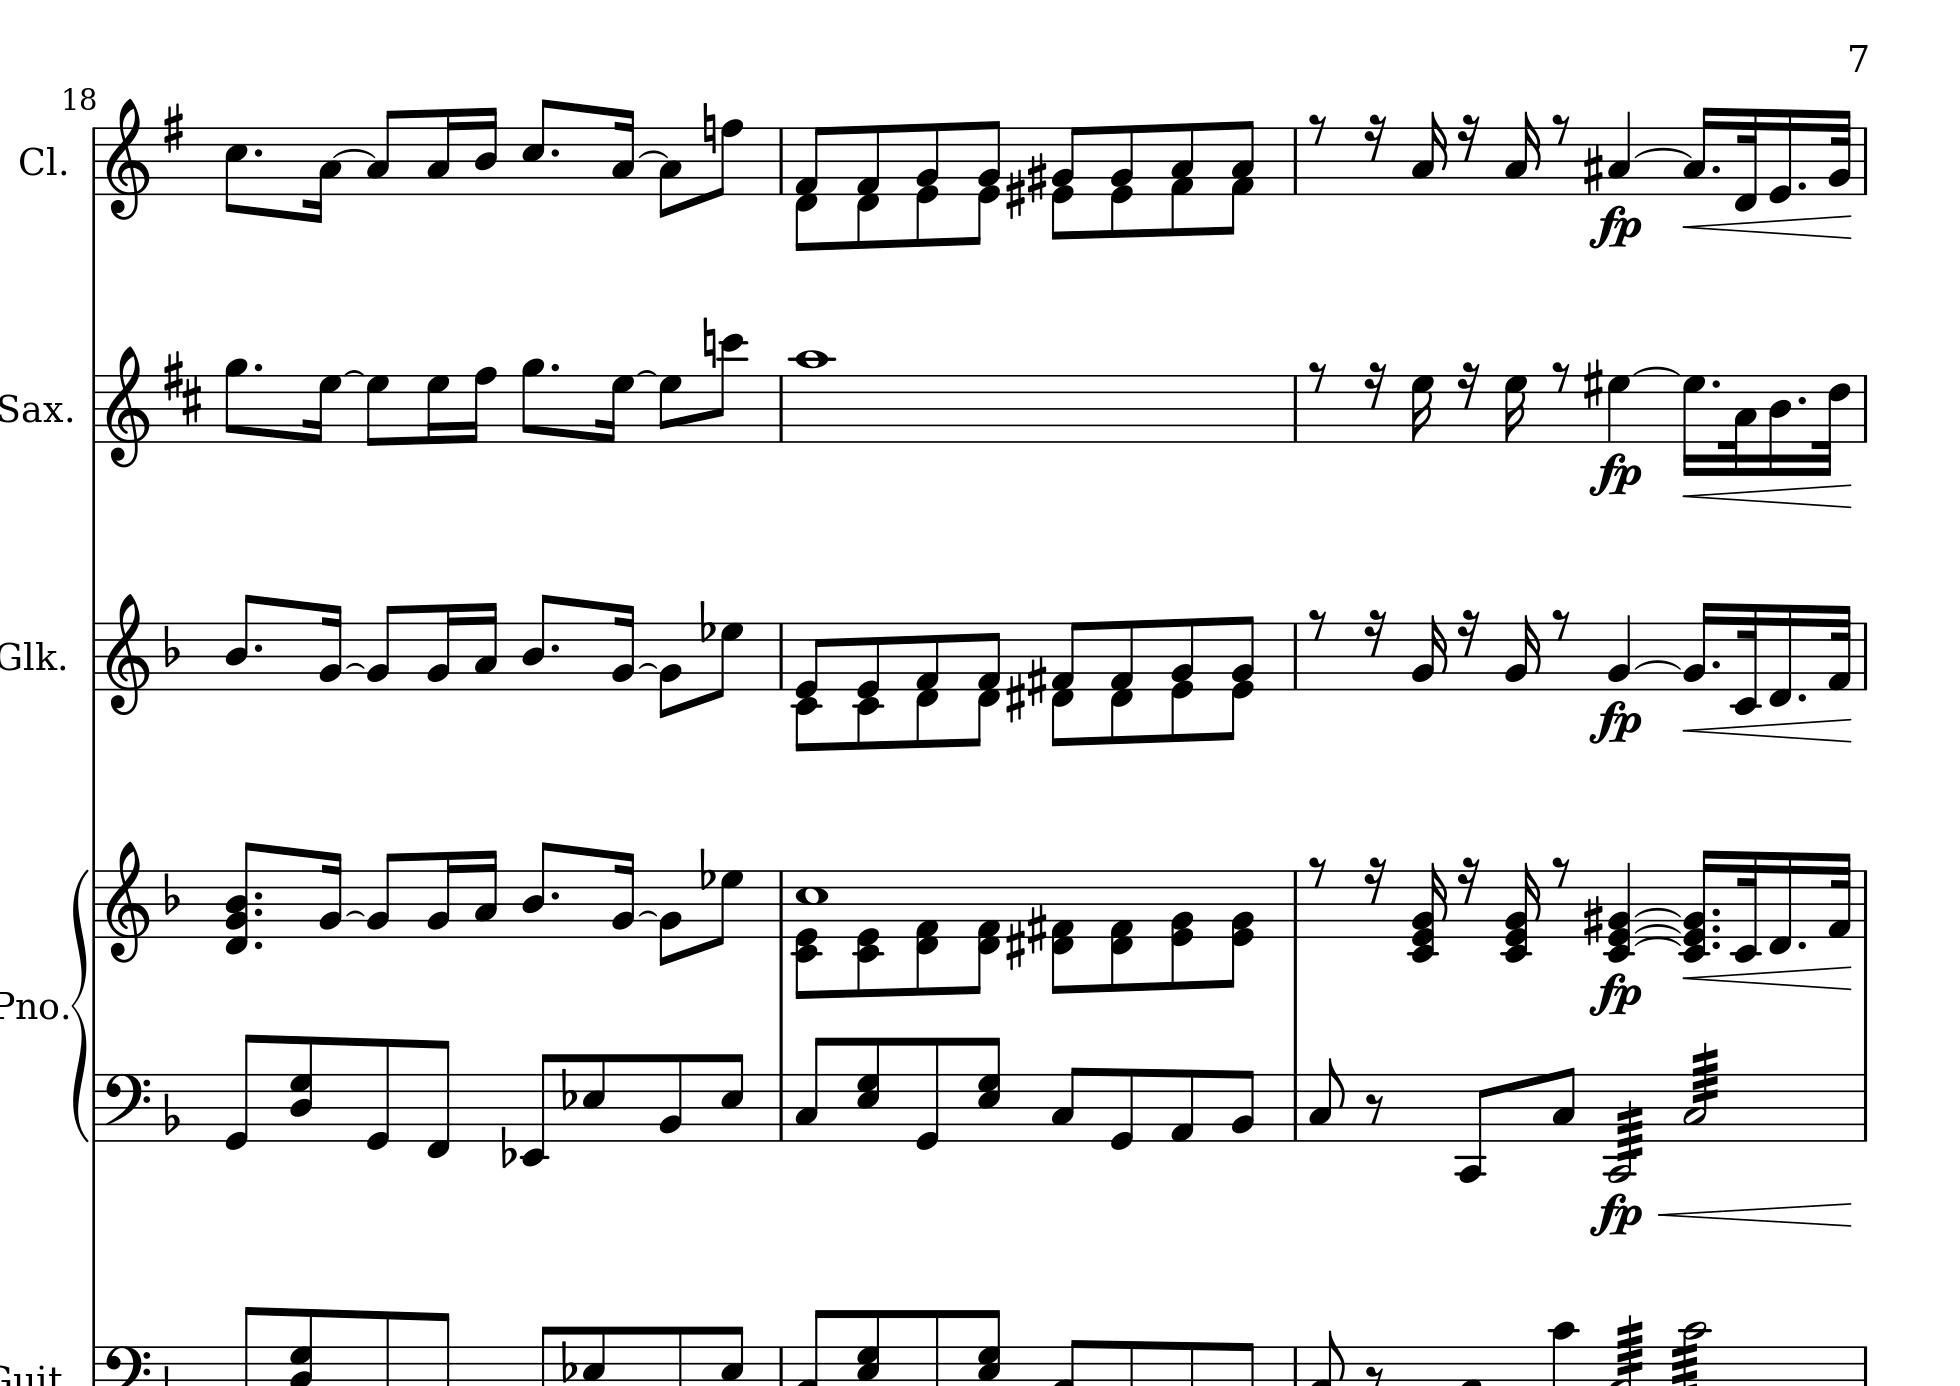1: (61, 84, 76, 112)
16_-1: (1768, 601, 1794, 708), (1768, 849, 1794, 955)
16_0: (1767, 106, 1794, 205)
16_2: (1680, 598, 1716, 691), (424, 849, 459, 940), (1503, 612, 1542, 691), (424, 601, 457, 691), (1411, 613, 1449, 691), (316, 601, 343, 691), (609, 601, 636, 691), (316, 849, 343, 939), (609, 849, 636, 939)
16_3: (303, 124, 340, 225), (1504, 108, 1542, 195), (1411, 109, 1449, 195), (424, 106, 459, 196), (1681, 103, 1714, 196), (472, 847, 499, 940), (609, 106, 636, 196), (472, 601, 499, 691)
16_4: (1767, 372, 1794, 478), (472, 105, 499, 196)
16_7: (1680, 370, 1707, 478), (303, 373, 342, 445), (595, 372, 634, 444), (1503, 373, 1530, 444), (424, 373, 450, 445), (1410, 372, 1435, 444)
16_8: (463, 364, 496, 444)
16_th: (1500, 861, 1545, 967), (1407, 862, 1452, 966)
1_10: (792, 346, 831, 445)
32_-1: (1732, 105, 1759, 214)
32_-2: (1731, 846, 1761, 963), (1731, 600, 1761, 715)
32_1: (1825, 601, 1854, 691), (1827, 850, 1854, 937)
32_2: (1827, 108, 1854, 198)
32_3: (1719, 370, 1758, 477)
32_6: (1813, 373, 1851, 477)
4_2: (1606, 610, 1633, 691)
4_3: (1606, 108, 1633, 195)
4_7: (1605, 372, 1633, 442)
4_th: (1605, 859, 1635, 964)
7: (1848, 39, 1870, 73)
8: (78, 82, 97, 112)
8_-1: (423, 1036, 453, 1161)
8_-1_1: (966, 868, 1002, 996), (970, 622, 1003, 747), (1050, 618, 1080, 748), (793, 124, 823, 253), (1050, 868, 1077, 994), (1110, 868, 1137, 994), (1110, 618, 1137, 742), (915, 868, 940, 997), (915, 622, 940, 750), (856, 124, 882, 249)
8_-2: (519, 1050, 553, 1167)
8_-2_0: (789, 621, 825, 753), (850, 868, 886, 999), (850, 622, 886, 751)
8_-4: (1455, 1071, 1491, 1183)
8_0: (220, 1032, 261, 1150), (363, 1036, 393, 1152), (913, 1035, 942, 1153), (1108, 1066, 1137, 1153)
8_0_2: (1050, 124, 1086, 243), (970, 120, 1002, 246), (1224, 868, 1257, 988), (1224, 616, 1254, 744), (913, 121, 940, 249), (1170, 616, 1197, 744), (1108, 124, 1137, 240), (1170, 868, 1194, 991)
8_1: (1167, 1066, 1197, 1144)
8_12: (709, 330, 745, 442)
8_1_3: (1225, 120, 1257, 238), (1167, 121, 1195, 240)
8_2: (364, 603, 397, 691), (364, 850, 397, 937), (657, 621, 682, 718), (657, 868, 682, 966), (657, 1051, 684, 1143), (1230, 1066, 1257, 1143)
8_3: (793, 1033, 826, 1143), (1308, 1056, 1345, 1141), (366, 108, 399, 196), (1050, 1065, 1083, 1143), (657, 124, 682, 219), (1551, 1065, 1576, 1143)
8_4: (223, 591, 259, 691), (520, 592, 555, 691), (520, 840, 555, 939)
8_5: (520, 96, 553, 196), (580, 1050, 607, 1143), (718, 1051, 745, 1143), (223, 124, 247, 217)
8_5_7: (976, 1036, 1003, 1143), (856, 1036, 882, 1143)
8_7: (709, 619, 742, 700), (709, 868, 742, 949), (364, 373, 390, 447), (657, 372, 682, 442)
8_8: (712, 117, 745, 199)
8_9: (520, 355, 544, 444), (223, 355, 247, 442)
8_th: (223, 835, 261, 955)
Brace: (69, 864, 90, 1141)
Cl: (18, 142, 58, 181)
Crescendo_hairpin: (1660, 1200, 1855, 1231), (1689, 715, 1852, 744), (1684, 214, 1849, 240), (1687, 483, 1848, 508)
D_S: (163, 349, 202, 424)
Fclef: (102, 1071, 151, 1144)
Flat: (160, 870, 183, 916), (160, 1089, 183, 1135), (496, 1123, 517, 1171), (160, 622, 181, 667), (559, 1338, 577, 1384), (697, 598, 715, 643), (697, 846, 715, 891), (559, 1066, 577, 1111)
Gclef: (103, 838, 151, 964), (103, 591, 151, 715), (103, 96, 150, 220), (103, 343, 150, 468)
Natural: (700, 316, 718, 370), (700, 100, 717, 157)
Pno: (1, 987, 60, 1026)
Rests16: (1362, 112, 1389, 163), (1456, 112, 1482, 163), (1363, 360, 1389, 411), (1363, 607, 1389, 658), (1456, 607, 1482, 658), (1456, 360, 1482, 409), (1458, 855, 1482, 906), (1363, 856, 1387, 906)
Rests8: (1363, 1090, 1386, 1125), (1308, 111, 1329, 145), (1551, 358, 1572, 393), (1308, 606, 1329, 640), (1308, 853, 1329, 888), (1551, 853, 1572, 888), (1551, 112, 1572, 145), (1308, 358, 1329, 391), (1551, 607, 1572, 640), (1365, 1363, 1386, 1384)
Sax: (1, 387, 64, 430)
Sharp: (160, 100, 186, 156), (1581, 142, 1605, 196), (1581, 357, 1605, 411), (1581, 892, 1605, 946), (1005, 166, 1026, 220), (1026, 151, 1047, 205), (1005, 670, 1026, 724), (1005, 919, 1026, 973), (1026, 904, 1047, 955), (1027, 655, 1047, 709)
Single_barline: (1857, 375, 1875, 442), (772, 870, 790, 937), (772, 1072, 790, 1140), (772, 622, 790, 688), (87, 126, 103, 195), (1857, 870, 1873, 939), (1857, 127, 1873, 195), (87, 622, 103, 690), (1857, 622, 1873, 690), (1857, 1074, 1873, 1141), (772, 127, 789, 193), (1287, 127, 1303, 193), (772, 375, 789, 441), (1287, 622, 1303, 688), (1287, 871, 1303, 937), (1287, 1072, 1303, 1138), (1287, 375, 1303, 439), (88, 868, 103, 937), (88, 1072, 103, 1141), (87, 375, 100, 442)
Slur: (1633, 145, 1693, 159), (1632, 364, 1681, 378), (1633, 658, 1683, 670), (1633, 922, 1683, 934), (331, 147, 376, 159), (1635, 906, 1683, 916), (1635, 936, 1683, 946), (637, 148, 669, 159), (343, 661, 366, 670), (637, 661, 658, 670), (345, 909, 366, 918), (342, 369, 366, 376), (634, 369, 658, 376), (637, 909, 658, 916)
Stem: (1599, 1072, 1644, 1186), (1683, 1042, 1722, 1143)
dot: (250, 145, 265, 160), (547, 145, 562, 159), (250, 358, 264, 373), (250, 640, 265, 654), (547, 640, 562, 654), (252, 886, 265, 901), (547, 888, 562, 901), (547, 360, 561, 373), (252, 904, 265, 918), (252, 937, 265, 951), (1797, 937, 1810, 951), (1797, 177, 1809, 192), (1710, 376, 1722, 391), (1797, 688, 1809, 703), (1797, 393, 1809, 406), (1710, 657, 1722, 670), (1710, 904, 1722, 918), (1710, 937, 1722, 951), (1710, 163, 1722, 175), (1710, 922, 1722, 934)
fp: (1590, 969, 1644, 1018), (1590, 1192, 1644, 1242), (1590, 700, 1644, 748), (1588, 451, 1641, 499), (1587, 205, 1641, 252)
